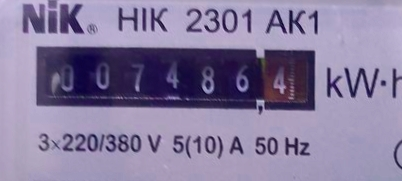0: (54, 61, 75, 95), (91, 59, 110, 93)
4: (160, 57, 179, 92), (268, 64, 286, 98)
6: (231, 63, 251, 95)
7: (123, 61, 147, 94)
8: (197, 64, 215, 99)
screen: (24, 36, 323, 123)
